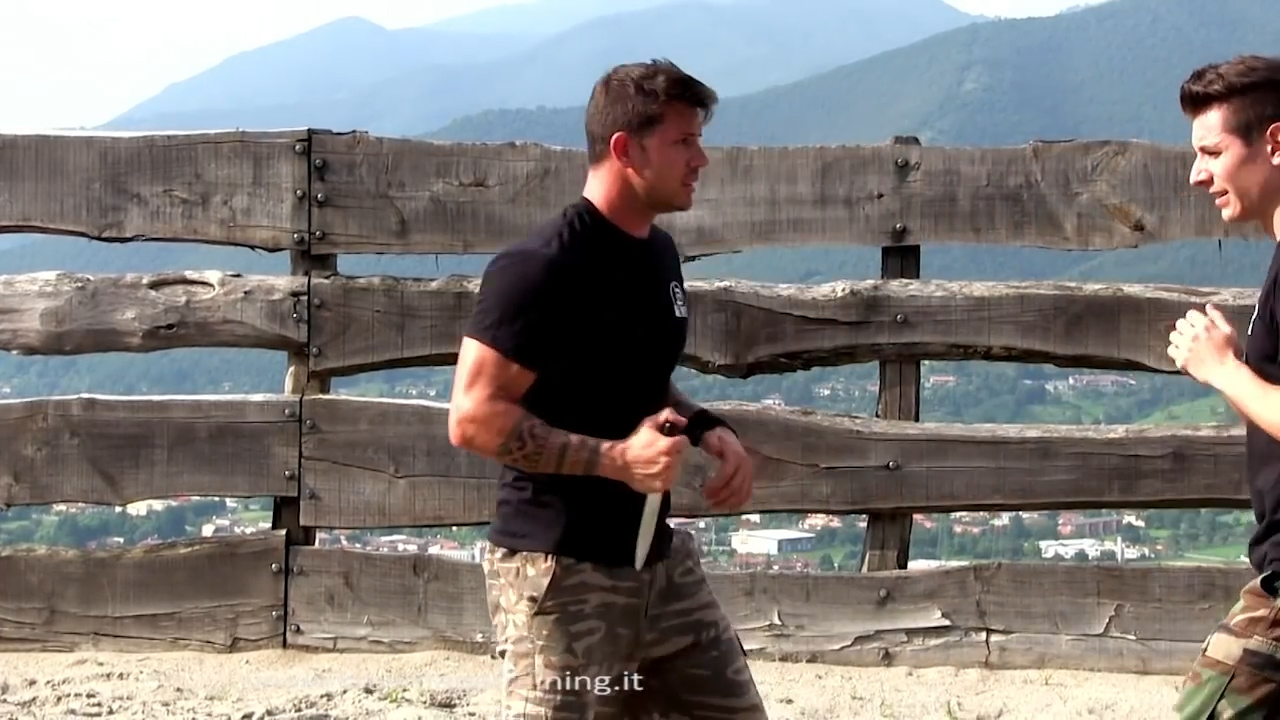knife: (624, 404, 693, 577)
